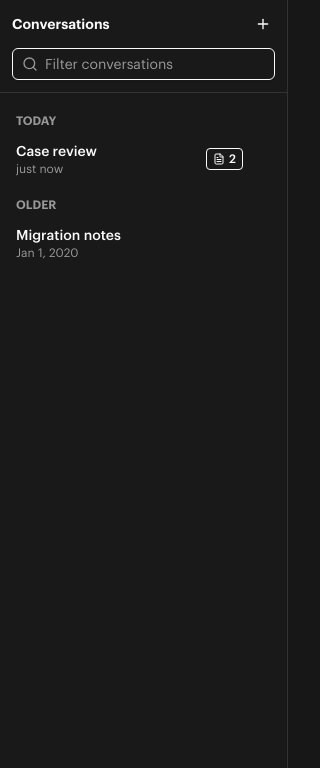
Test case: v2 ConversationSidebar › groups conversations, filters by title, and loads a selected conversation
Later steps or results of the test are not shown.
Expected: the heading "Today" is shown, [16,113,56,128]
Expected: the text "Case review" is shown, [16,142,97,160]
Type "case" into the search field labelled "Filter conversations". click: [144, 64]
box: [12,48,275,80]
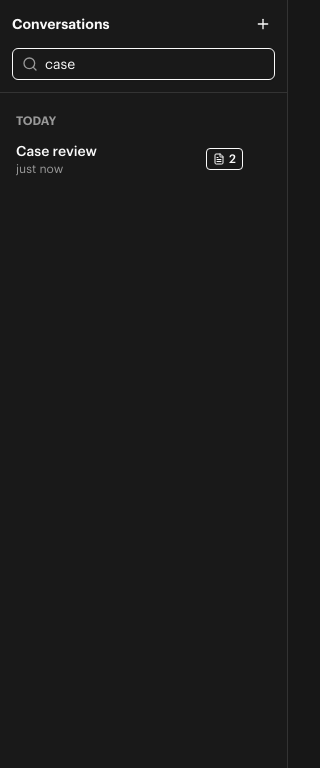
Expected: the text "Case review" is shown, [16,142,97,160]
Expected: the button "Migration notes" is gone
